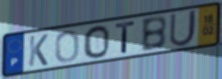B: (140, 14, 168, 54)
K: (27, 33, 50, 68)
O: (82, 24, 111, 59), (54, 29, 81, 64)
T: (114, 20, 137, 55)
U: (168, 8, 198, 48)
